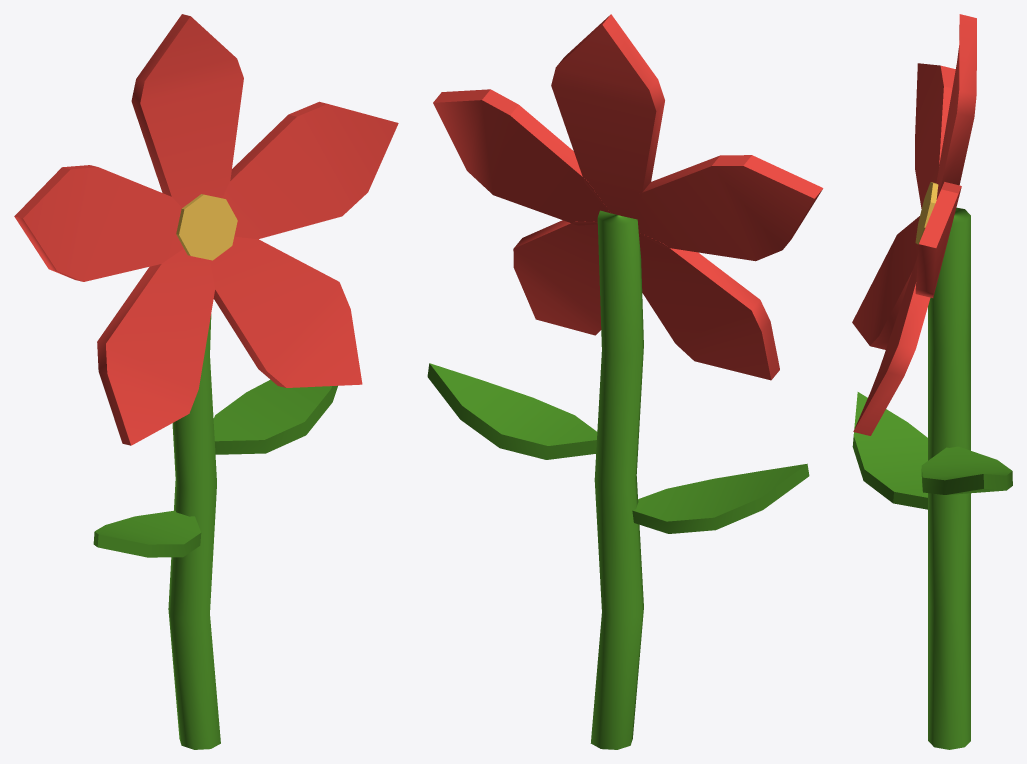
Rendered from Flower_Red_6.fbx.
3 renders of one model, left to right at view 1: azimuth 30°, elevation 25°; view 2: azimuth 150°, elevation 25°; view 3: azimuth 270°, elevation 25°, orthographic.
Visible parts, largest first — view 1: Cube.100, Cylinder.250, Plane.084, Plane.083, Cylinder.254; view 2: Cube.100, Cylinder.250, Plane.084, Plane.083; view 3: Cylinder.250, Cube.100, Plane.083, Plane.084, Cylinder.254.
Part boxes in pixels (x1,y1,x2,y2): Cube.100: (14,14,398,445); Cylinder.250: (168,314,220,749); Plane.084: (213,379,337,454); Plane.083: (93,510,201,557); Cylinder.254: (176,194,237,260); Cube.100: (433,14,823,380); Cylinder.250: (590,210,643,749); Plane.084: (427,363,597,459); Plane.083: (632,463,809,533); Cylinder.250: (928,207,970,749); Cube.100: (852,14,976,435); Plane.083: (852,392,927,509); Plane.084: (921,446,1012,494); Cylinder.254: (915,182,938,244).
Bounding box in the file's own units: 71.56 × 131 × 26.41.
